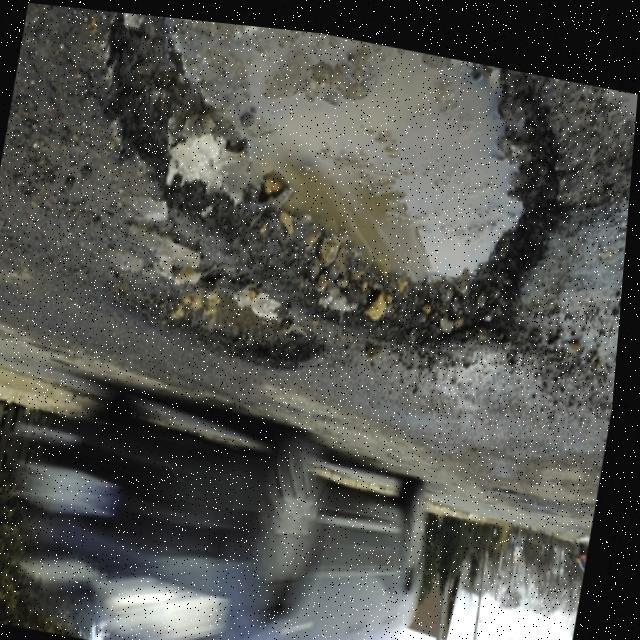pothole: (73, 8, 578, 358), (129, 245, 334, 384), (602, 75, 638, 171)
